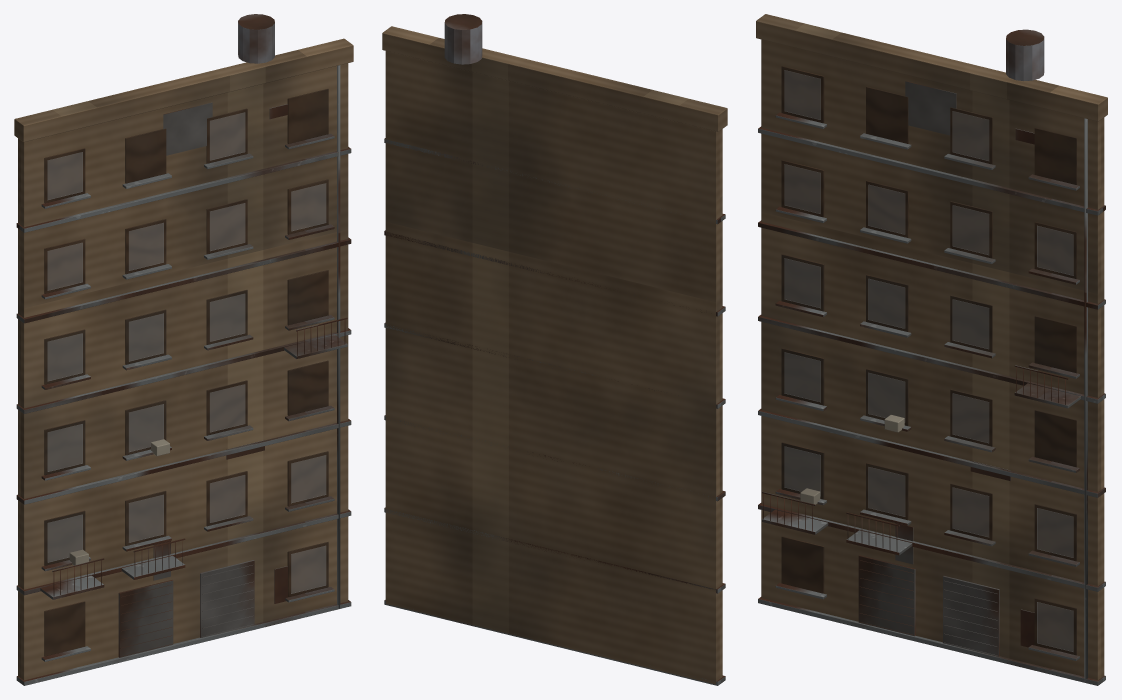
File: R16_apartment_block_facade_v3.glb
The picture shows the model from 3 angles, left to right: view 1: azimuth 30°, elevation 25°; view 2: azimuth 150°, elevation 25°; view 3: azimuth 330°, elevation 25°; orthographic projection. The views are drawn at different scales.
Parts seen in each view (by area): view 1: R16_apartment_block_facade_v3; view 2: R16_apartment_block_facade_v3; view 3: R16_apartment_block_facade_v3.
Part boxes in pixels (x1=…): R16_apartment_block_facade_v3: x1=14, y1=14, x2=353, y2=685; R16_apartment_block_facade_v3: x1=382, y1=14, x2=727, y2=685; R16_apartment_block_facade_v3: x1=756, y1=14, x2=1107, y2=685.
Size of the model in its own units: 17.41 by 30 by 3.14.
11 materials, 10 textured.
